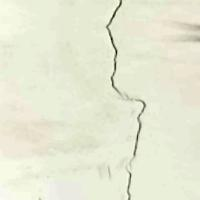crack: (76, 0, 160, 199)
